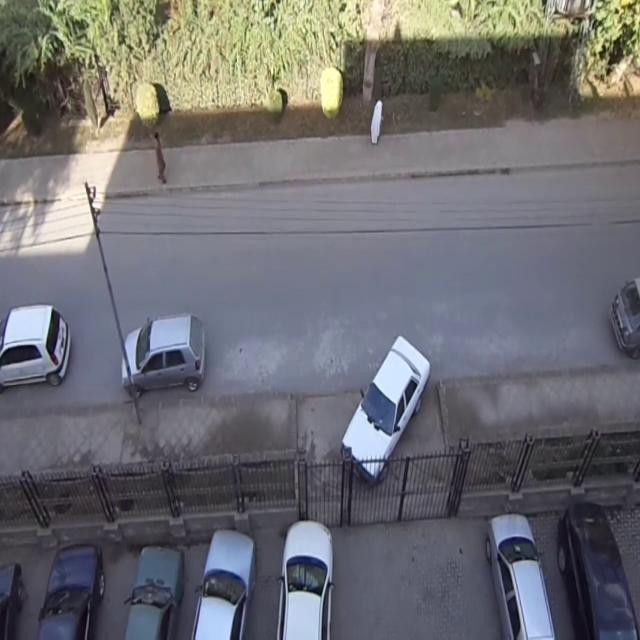person: (154, 129, 168, 189), (370, 98, 384, 146)
